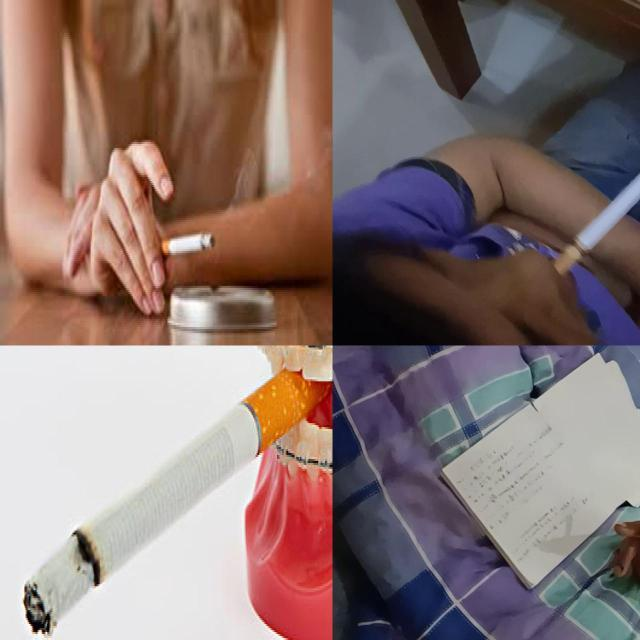smoking: (22, 374, 320, 638), (554, 166, 640, 276), (158, 232, 216, 256)
